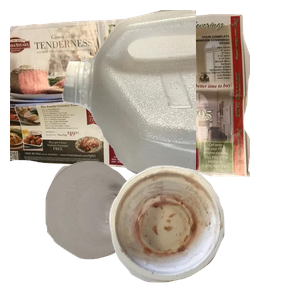glass: (43, 159, 187, 300)
paper: (10, 11, 250, 180)
plastic: (60, 10, 300, 190)
trash: (107, 163, 300, 300)
